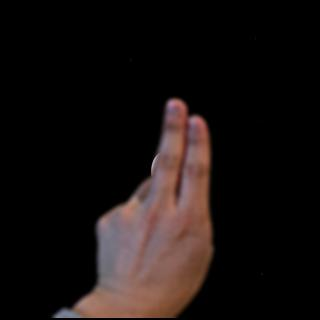DHAVE: (84, 97, 220, 305)
